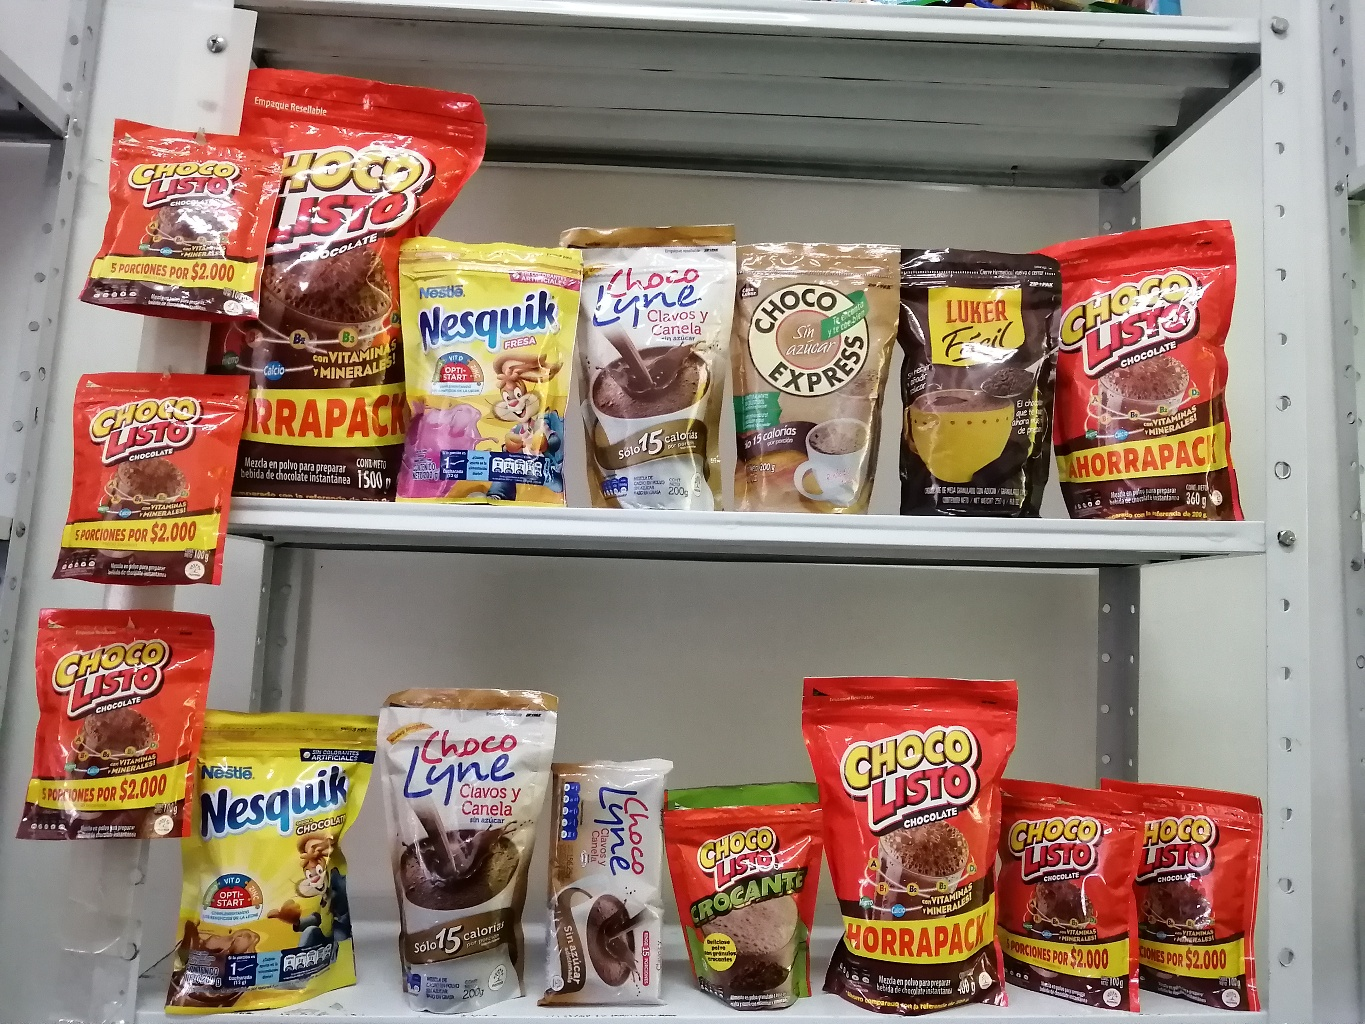COL0170102DYP10000: (662, 780, 828, 1009)
COL0170103DYP1,500: (211, 61, 481, 507)
COL0170103DYP10000: (1092, 771, 1264, 1011)
COL0170103DYP36000: (1047, 221, 1249, 526)
COL0170103DYP40000: (797, 667, 1024, 1006)
COL0170303DYP20000: (177, 706, 382, 1004)
COL0170305DYP20000: (406, 232, 571, 501)
